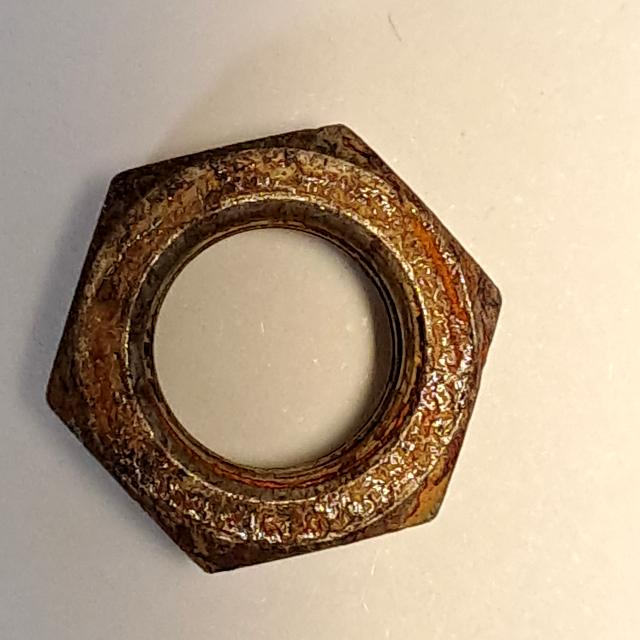Rust: (32, 111, 524, 590)
